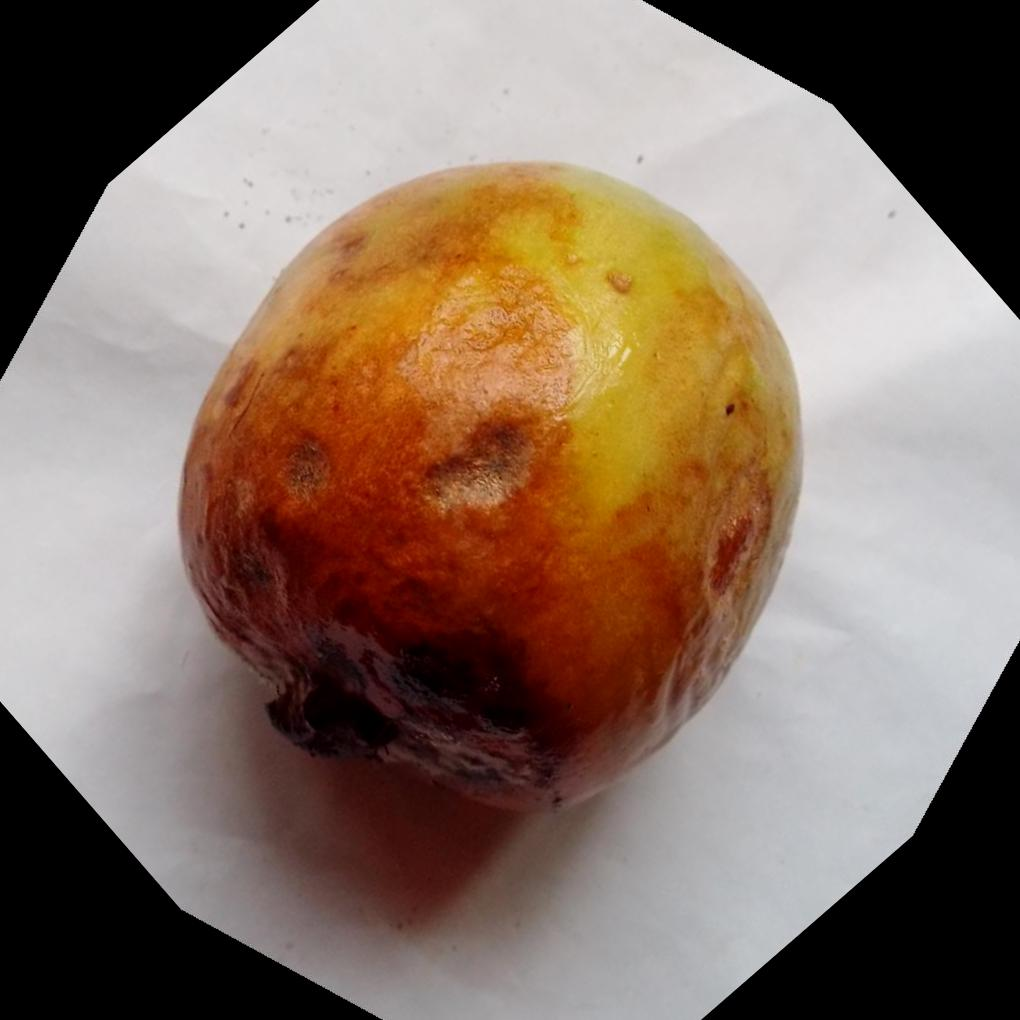FreshOrange: (176, 160, 806, 820)
